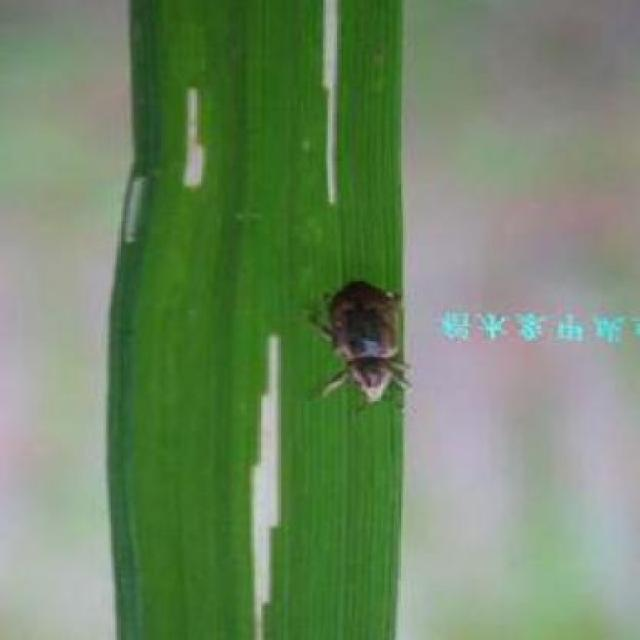rice-bug: (311, 274, 424, 409)
